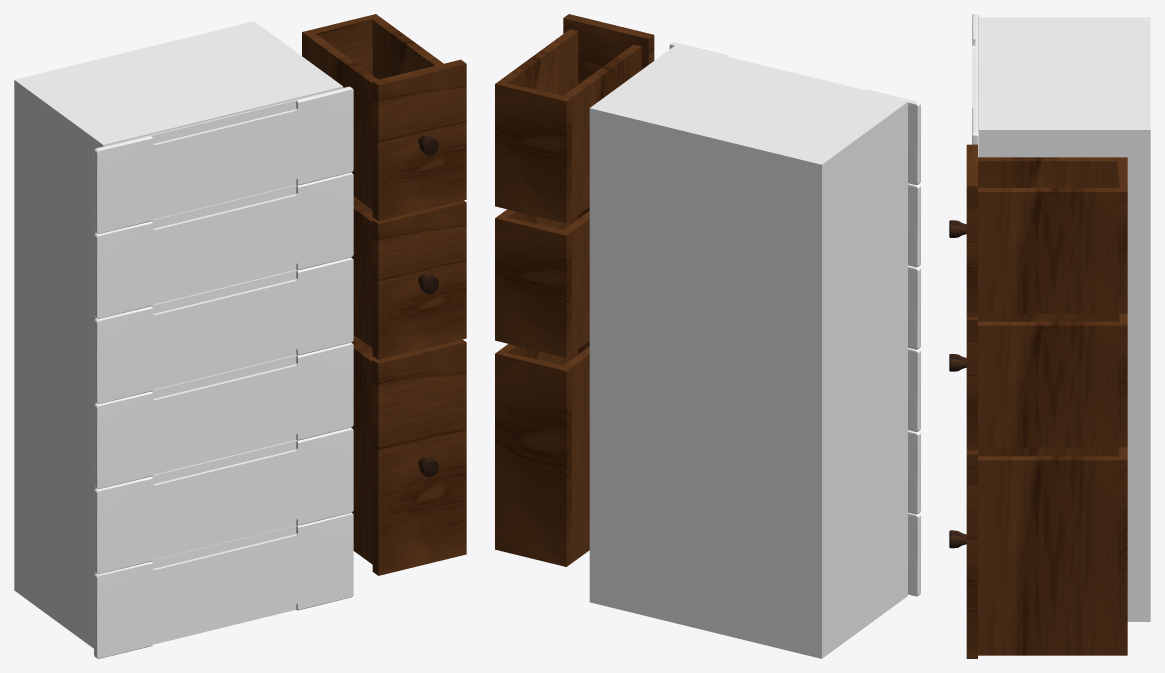
File: tansu.fbx
3 renders of one model, left to right at view 1: azimuth 30°, elevation 25°; view 2: azimuth 150°, elevation 25°; view 3: azimuth 270°, elevation 25°, orthographic. The views are drawn at different scales.
Visible parts, largest first — view 1: tansu; view 2: tansu; view 3: tansu.
Part boxes in pixels (<box>): tansu: <box>14,14,466,658</box>; tansu: <box>495,14,920,658</box>; tansu: <box>949,14,1150,658</box>.
Bounding box in the file's own units: 428 × 569 × 211.
Materials: 2 (2 with a texture image).
